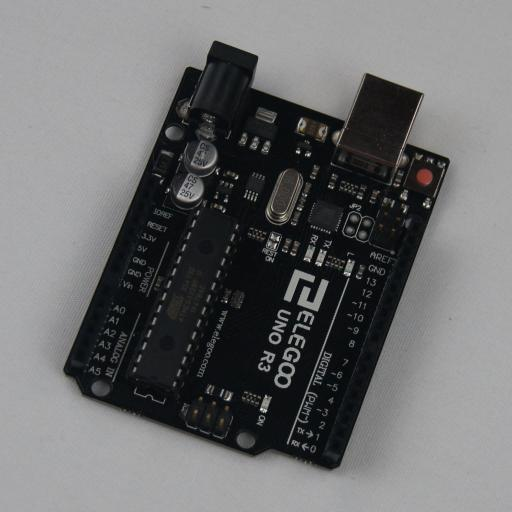NODEMCU_ESP8266: (63, 41, 450, 471)
